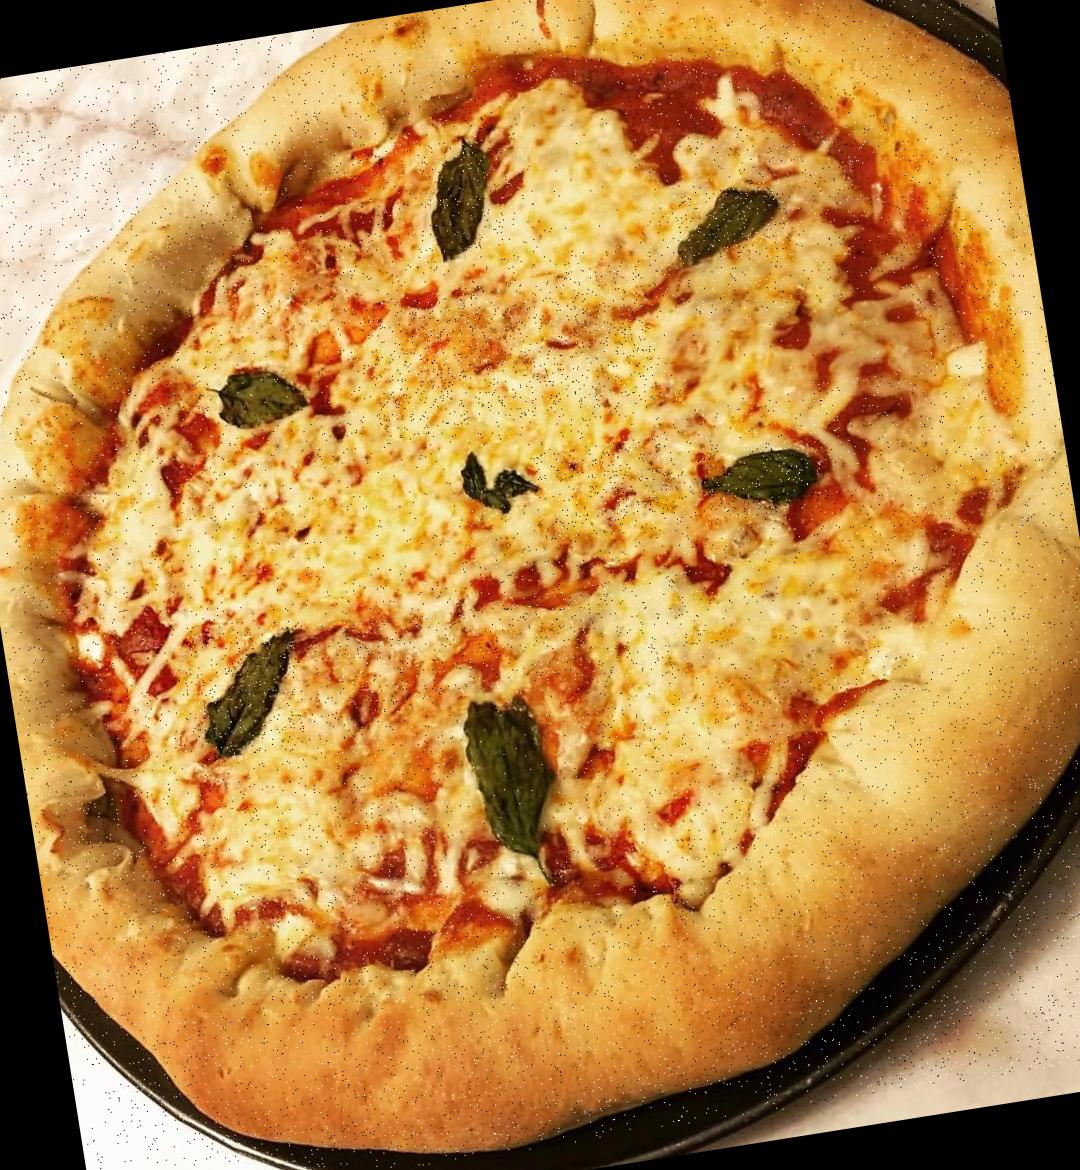Basil: (444, 685, 569, 876), (179, 627, 313, 764), (414, 135, 505, 262), (695, 436, 823, 526), (667, 180, 792, 266), (199, 349, 316, 435), (448, 439, 536, 510)
Cheese: (114, 457, 452, 624), (362, 261, 664, 442), (332, 570, 711, 713), (203, 738, 441, 921), (672, 288, 920, 404), (517, 76, 643, 256), (728, 546, 863, 671), (534, 434, 684, 545)
Pizza: (0, 0, 1080, 1170)
